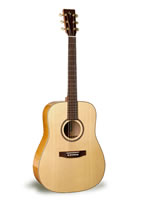guitar: (30, 8, 106, 194)
